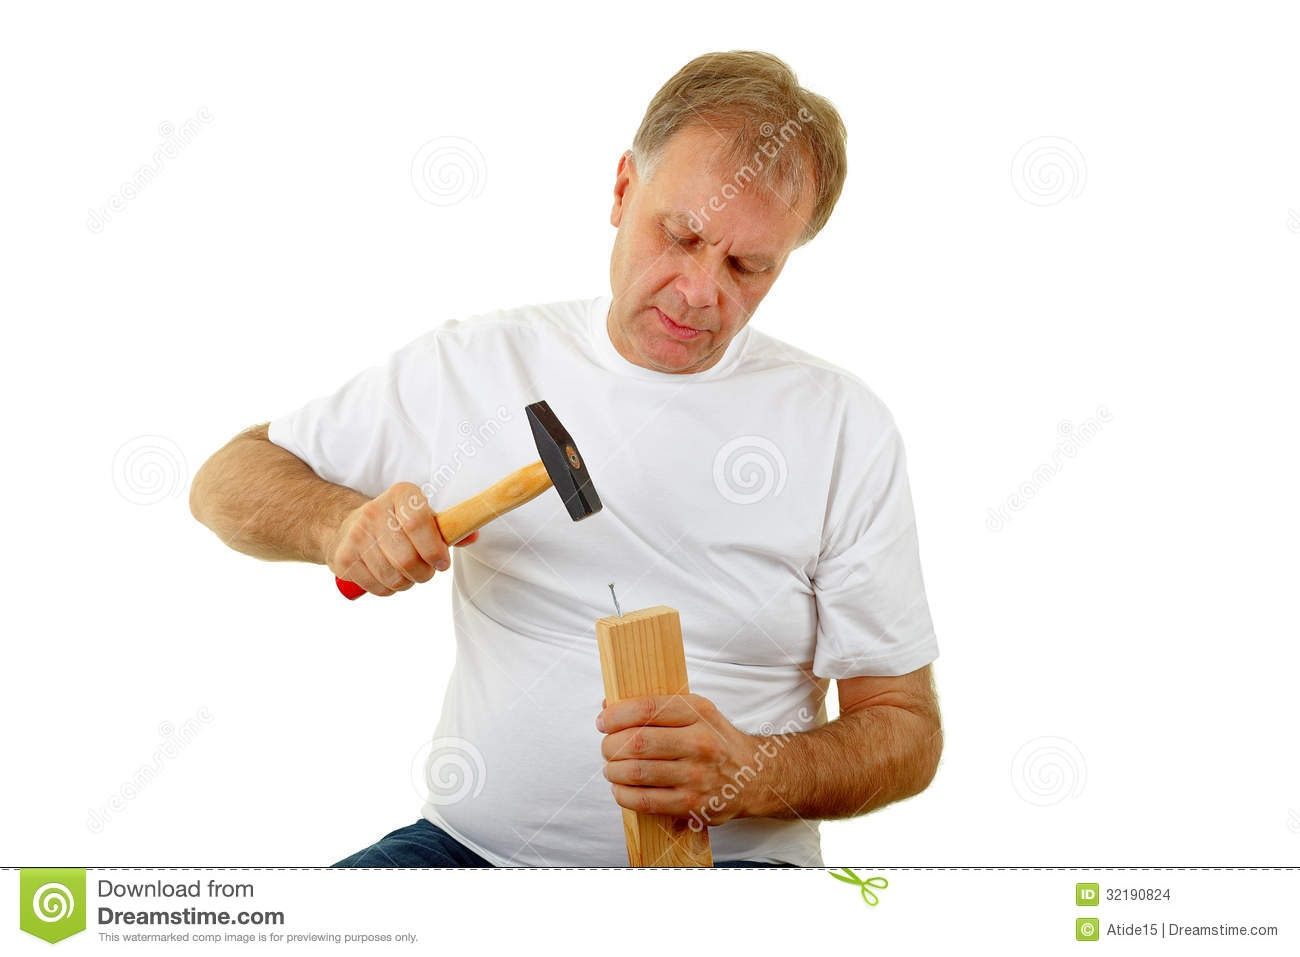hammer: (334, 401, 603, 603)
person: (329, 37, 944, 865)
